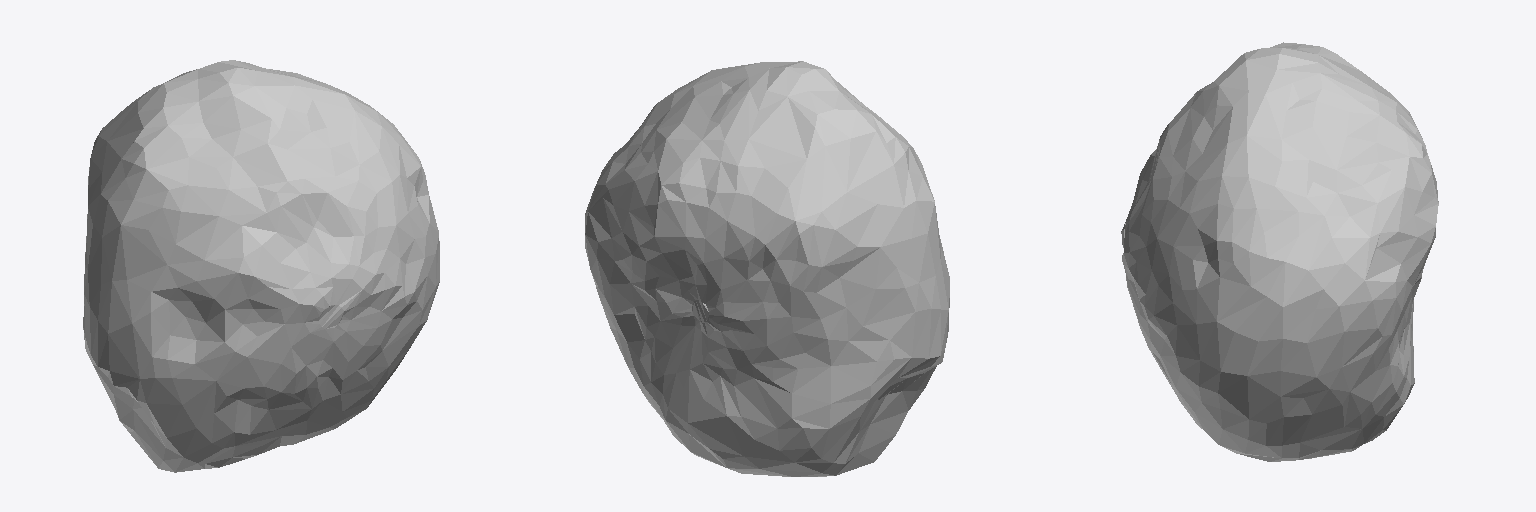
Rendered from phobos_t.obj.
The picture shows the model from 3 angles: view 1: azimuth 30°, elevation 25°; view 2: azimuth 150°, elevation 25°; view 3: azimuth 270°, elevation 25°; orthographic projection.
Parts seen in each view (by area): view 1: phobos; view 2: phobos; view 3: phobos.
Part boxes in pixels (x1,y1,x2,y2): phobos: (83, 60, 439, 472); phobos: (585, 61, 949, 476); phobos: (1121, 42, 1438, 461).
Bounding box in the file's own units: 233 × 260 × 194.